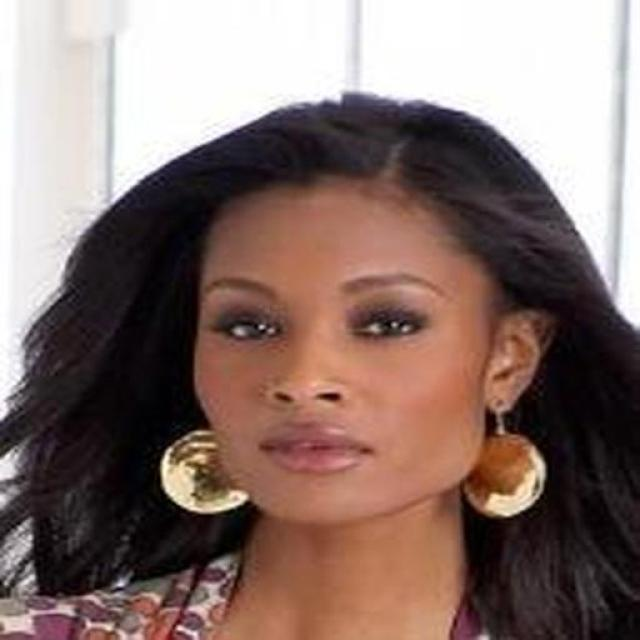bareface: (105, 80, 600, 538)
